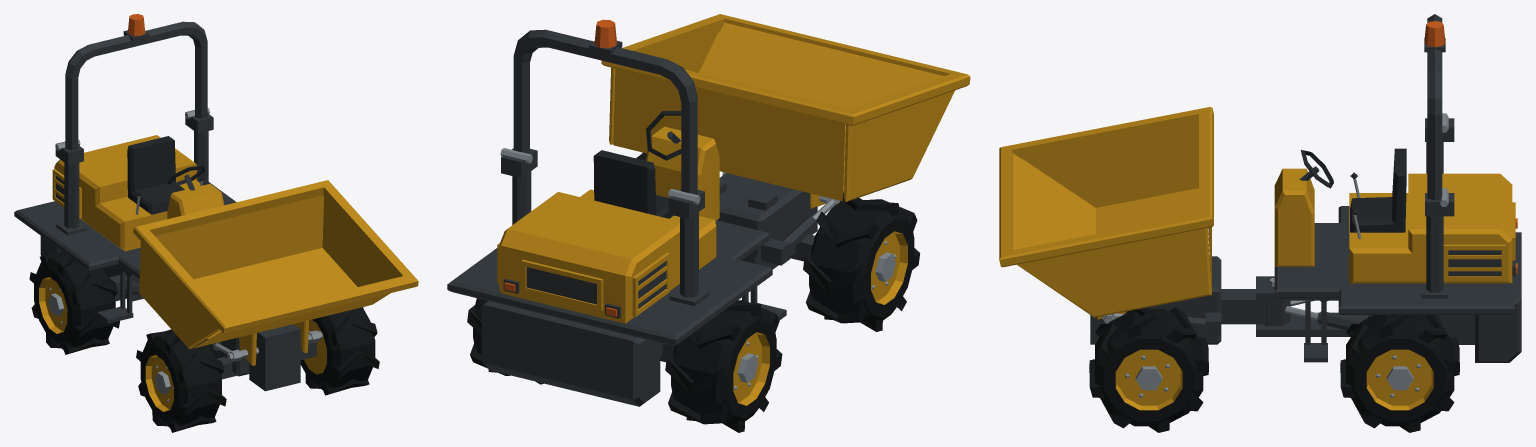
File: rigid-site-dumper-224eb0.glb
The picture shows the model from 3 angles, left to right: view 1: azimuth 30°, elevation 25°; view 2: azimuth 150°, elevation 25°; view 3: azimuth 270°, elevation 25°; orthographic projection. The views are drawn at different scales.
Parts seen in each view (by area): view 1: skip-mesh, rear-unit, wheel-mesh-fr, wheel-mesh-rr, wheel-mesh-fl, rops-mesh, front-frame; view 2: rear-unit, skip-mesh, wheel-mesh-fr, wheel-mesh-rr, rops-mesh, front-frame, wheel-mesh-rl; view 3: rear-unit, skip-mesh, wheel-mesh-fl, wheel-mesh-rl, front-frame, rops-mesh.
Boxes of the visible parts, x1=… form: skip-mesh: x1=133, y1=180, x2=418, y2=365; rear-unit: x1=14, y1=108, x2=236, y2=323; wheel-mesh-fr: x1=136, y1=329, x2=226, y2=432; wheel-mesh-rr: x1=29, y1=252, x2=119, y2=354; wheel-mesh-fl: x1=300, y1=307, x2=379, y2=395; rops-mesh: x1=65, y1=14, x2=207, y2=150; front-frame: x1=210, y1=324, x2=322, y2=391; rear-unit: x1=447, y1=111, x2=786, y2=406; skip-mesh: x1=601, y1=14, x2=970, y2=208; wheel-mesh-fr: x1=803, y1=192, x2=920, y2=331; wheel-mesh-rr: x1=665, y1=300, x2=782, y2=432; rops-mesh: x1=513, y1=19, x2=697, y2=194; front-frame: x1=717, y1=172, x2=840, y2=269; wheel-mesh-rl: x1=467, y1=298, x2=543, y2=384; rear-unit: x1=1256, y1=113, x2=1521, y2=362; skip-mesh: x1=999, y1=107, x2=1213, y2=319; wheel-mesh-fl: x1=1089, y1=307, x2=1208, y2=432; wheel-mesh-rl: x1=1340, y1=315, x2=1459, y2=432; front-frame: x1=1090, y1=256, x2=1290, y2=344; rops-mesh: x1=1424, y1=14, x2=1445, y2=200.
Bounding box in the file's own units: 2 × 2.92 × 3.91.
